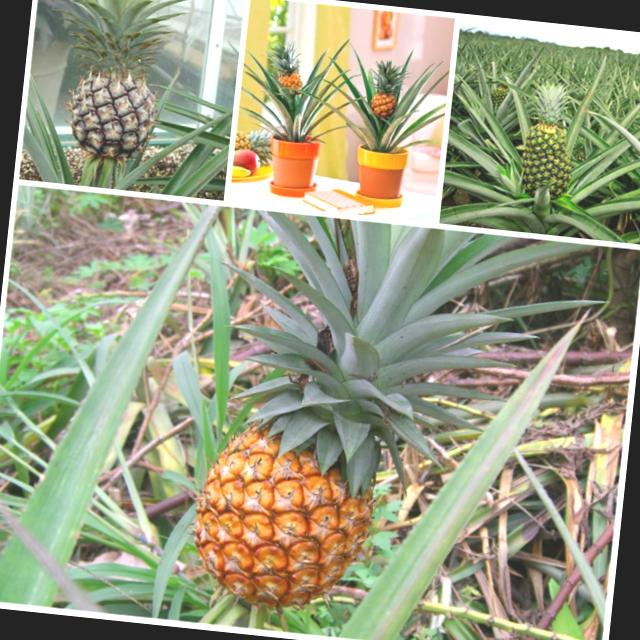pineapple: (181, 388, 388, 620)
